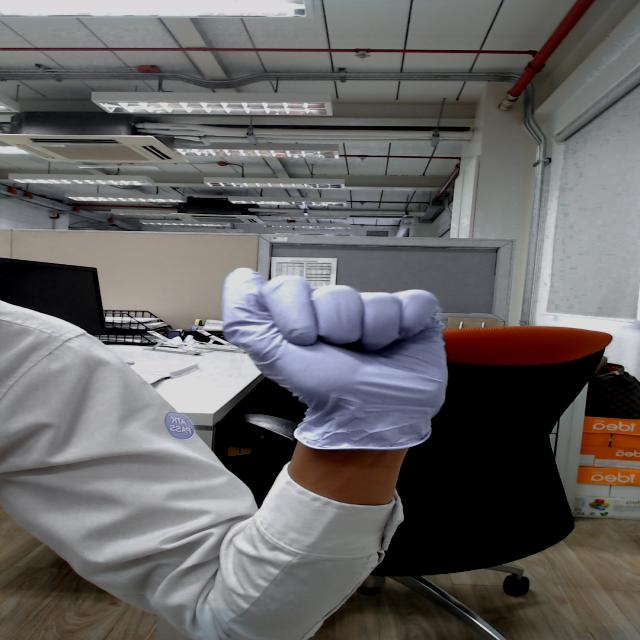glove: (216, 260, 458, 433)
